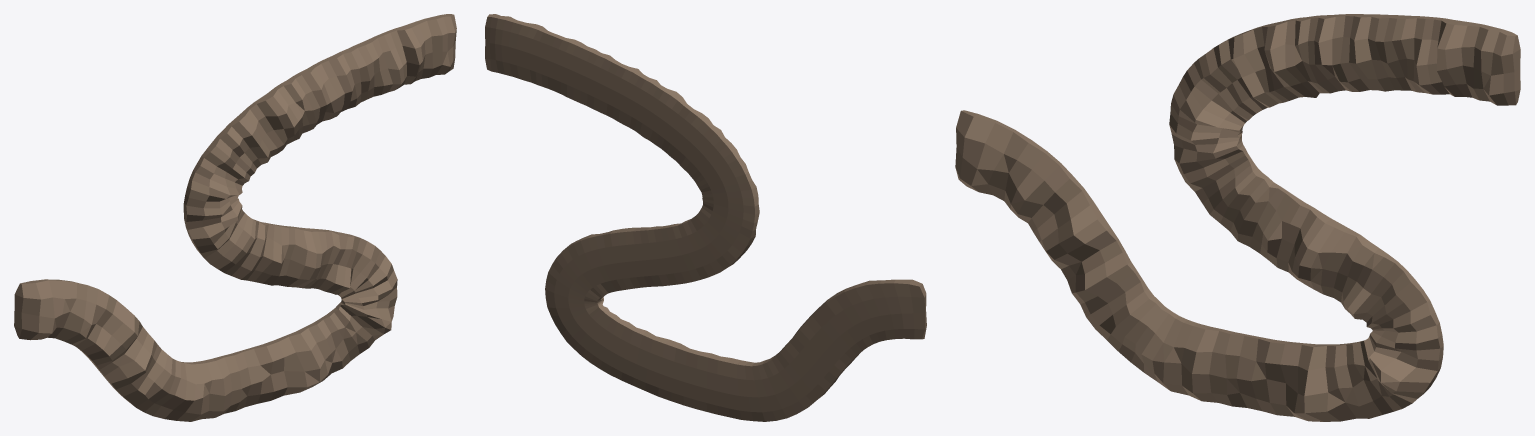
File: B_WindMap.fbx
3 renders of one model, left to right at view 1: azimuth 30°, elevation 25°; view 2: azimuth 150°, elevation 25°; view 3: azimuth 330°, elevation 25°, orthographic. The views are drawn at different scales.
Parts seen in each view (by area): view 1: BezierCurve.001; view 2: BezierCurve.001; view 3: BezierCurve.001.
Boxes of the visible parts, <box> form: BezierCurve.001: <box>14,14,456,421</box>; BezierCurve.001: <box>485,14,926,421</box>; BezierCurve.001: <box>955,14,1520,421</box>.
Size of the model in its own units: 51.92 by 38.78 by 4.46.
